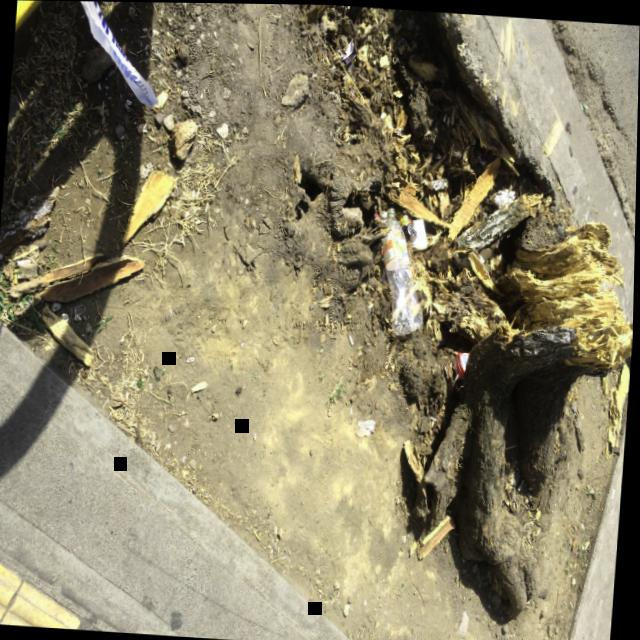Cigarette: (348, 332, 354, 345)
Clear plastic bottle: (383, 207, 423, 334)
Drink carton: (453, 351, 470, 378)
Foam cup: (410, 217, 428, 246)
Normal paper: (340, 39, 356, 64)
Plastic film: (79, 1, 158, 107), (392, 203, 417, 235)
Plastic straw: (453, 372, 459, 385)
